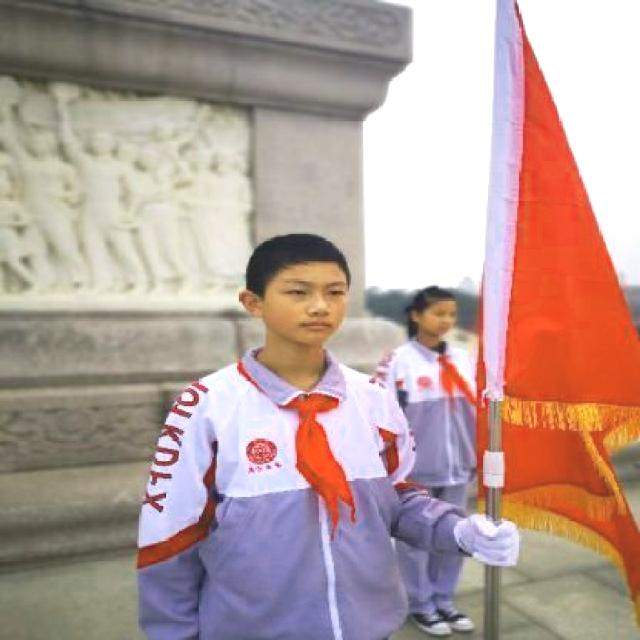face_nomask: (271, 271, 352, 355), (426, 301, 462, 334)
hand_glove: (456, 514, 522, 568)
head_nohelmet: (249, 229, 363, 282), (422, 286, 464, 306)
person: (178, 232, 404, 640), (385, 284, 507, 640)
